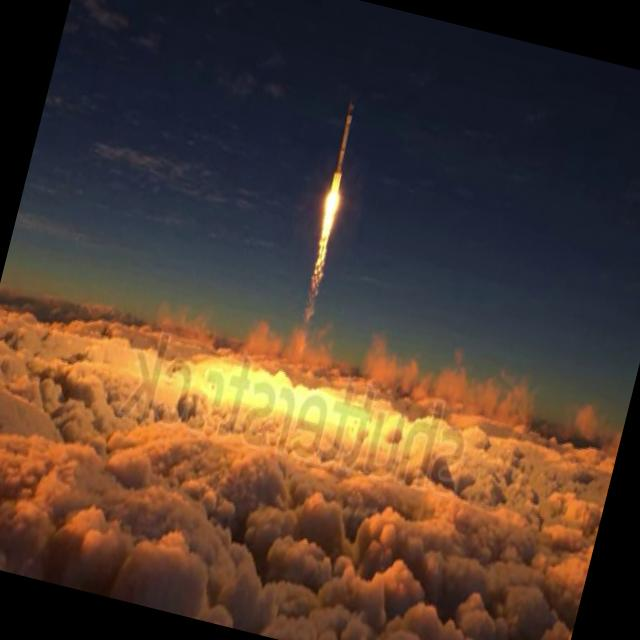rocket: (290, 94, 372, 326)
